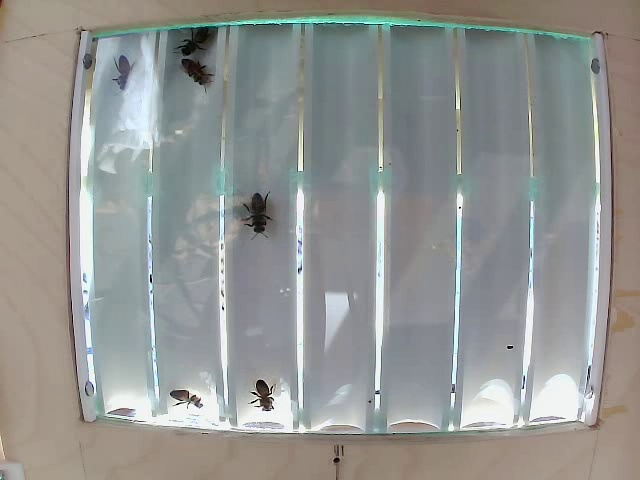bee: (239, 358, 293, 422), (96, 50, 142, 103), (238, 179, 274, 234), (176, 375, 213, 417), (178, 26, 214, 59), (179, 58, 213, 89)
